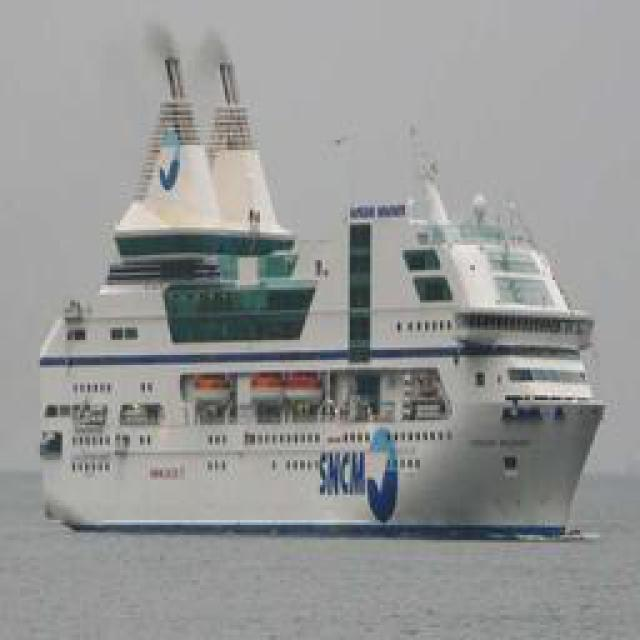Ship: (39, 68, 604, 536)
